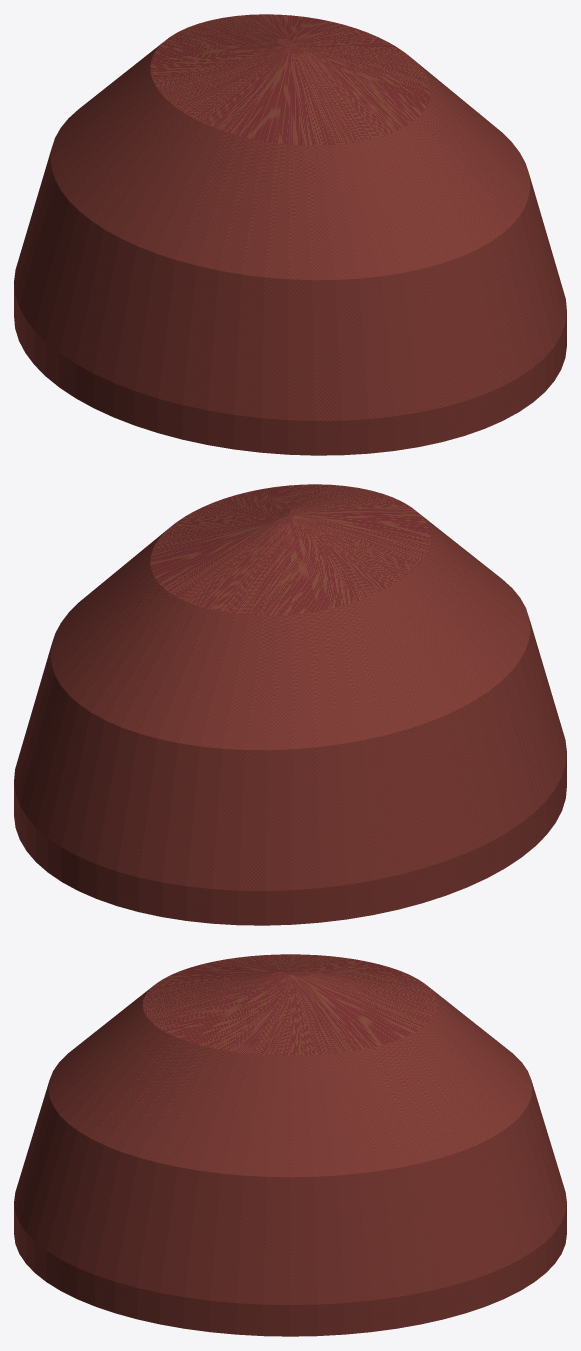
File: Archives_Cap.fbx
The picture shows the model from 3 angles, top to bottom: view 1: azimuth 30°, elevation 25°; view 2: azimuth 150°, elevation 25°; view 3: azimuth 270°, elevation 25°; orthographic projection. The views are drawn at different scales.
Parts seen in each view (by area): view 1: Walls; view 2: Walls; view 3: Walls.
Part boxes in pixels (x1,y1,x2,y2): Walls: (14, 14, 566, 455); Walls: (14, 484, 566, 925); Walls: (14, 954, 566, 1336).
Size of the model in its own units: 4484 by 2638 by 5097.
